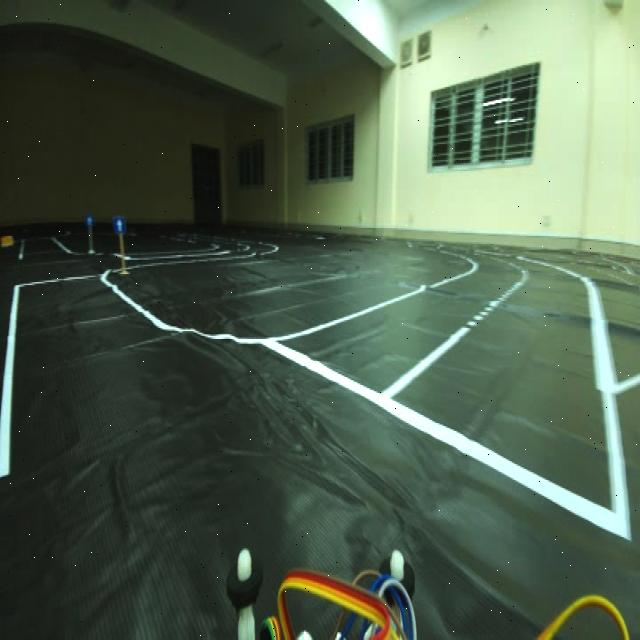onewayroad: (110, 212, 126, 234), (86, 211, 94, 225)
